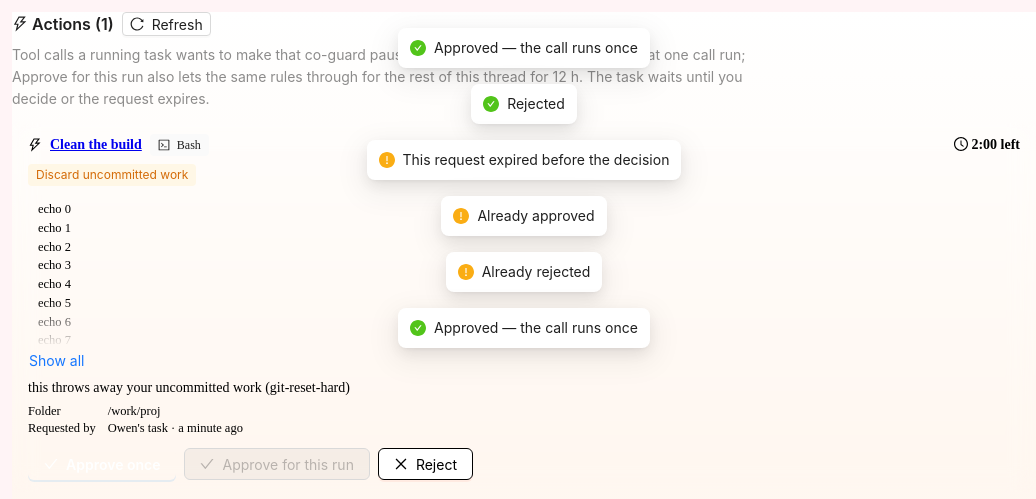
Test: ActionApprovals cards › a clamped summary (>20 lines) needs expanding or a confirmation before Approve
Later steps or results of the test are not shown.
Click the button "Approve once".
click(102, 464)  # box [28,448,176,480]
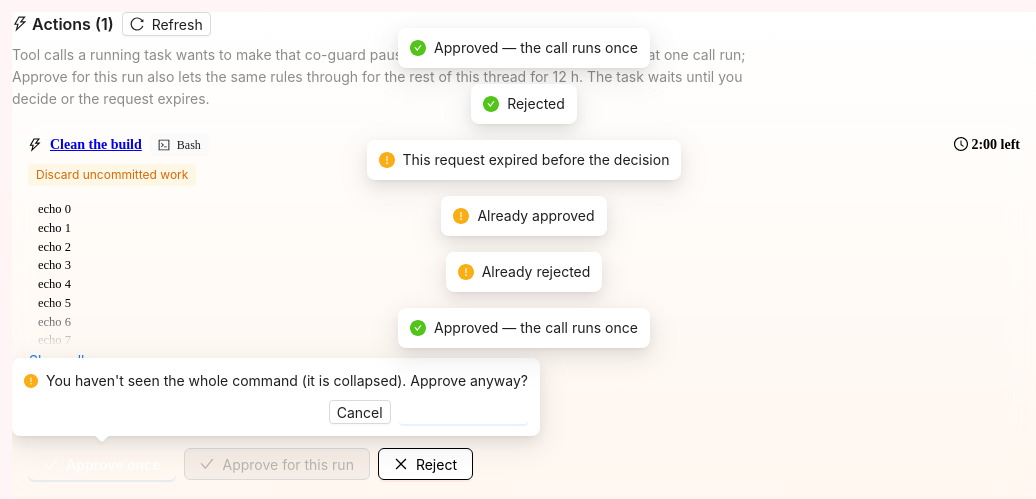
Result: the text "You haven't seen the whole command" is shown at [46,372,528,389]
